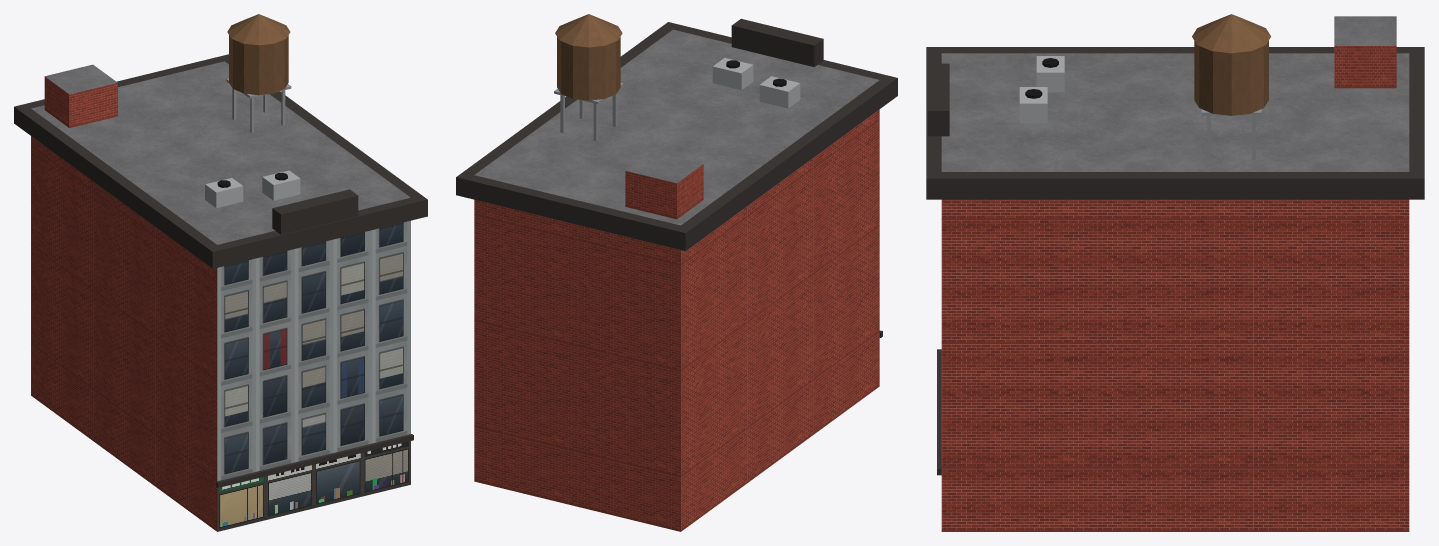
File: 028_castiron_gray.glb
The picture shows the model from 3 angles, left to right: view 1: azimuth 30°, elevation 25°; view 2: azimuth 150°, elevation 25°; view 3: azimuth 270°, elevation 25°; orthographic projection. The views are drawn at different scales.
Visible parts, largest first — view 1: 028_castiron_gray; view 2: 028_castiron_gray; view 3: 028_castiron_gray.
Part boxes in pixels (bbox=[...]): 028_castiron_gray: bbox=[14, 14, 427, 531]; 028_castiron_gray: bbox=[456, 14, 897, 531]; 028_castiron_gray: bbox=[926, 14, 1424, 531].
Bounding box in the file's own units: 20 × 35.1 × 32.
Materials: 9 (5 with a texture image).
